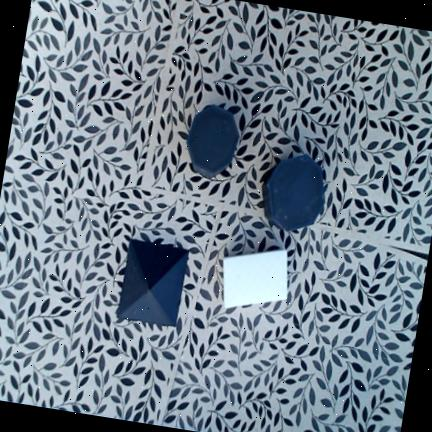Paralelepipedo: (223, 249, 288, 309)
Piramide: (117, 239, 189, 327)
Prisma_hexagonal: (262, 154, 324, 232), (186, 105, 239, 178)
